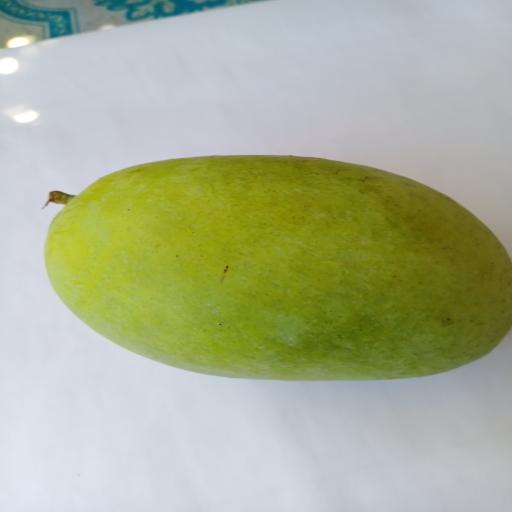mango-unripe: (20, 142, 512, 395)
